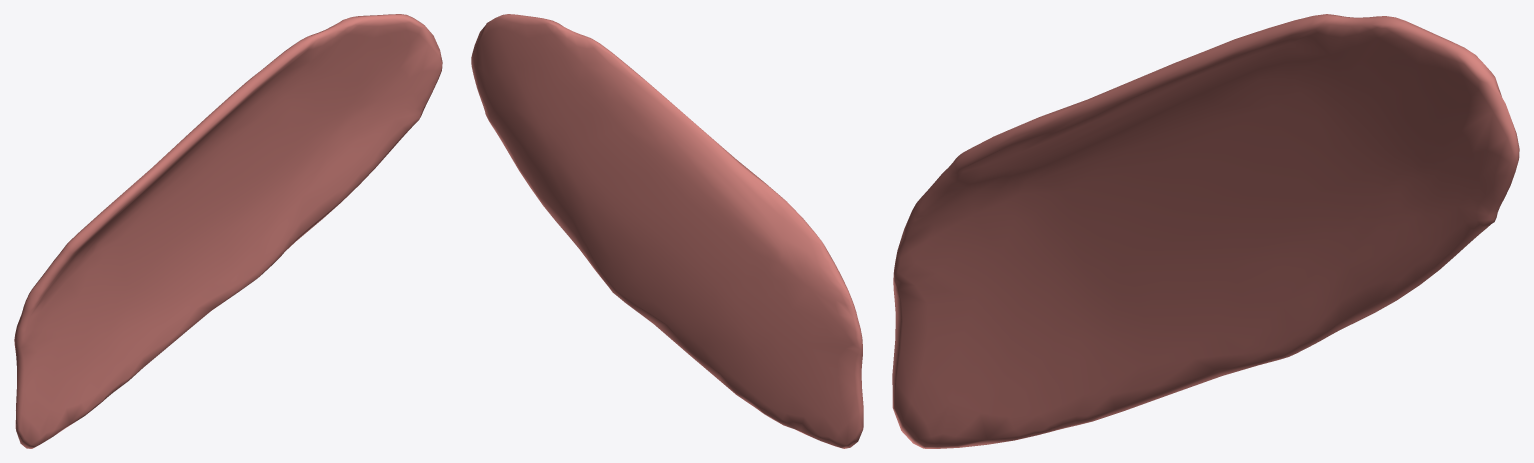
3 views of the same model, side by side, from view 1: azimuth 30°, elevation 25°; view 2: azimuth 150°, elevation 25°; view 3: azimuth 330°, elevation 25° (orthographic). The views are drawn at different scales.
Parts seen in each view (by area): view 1: ZA_8f24fcfa8a304a48; view 2: ZA_8f24fcfa8a304a48; view 3: ZA_8f24fcfa8a304a48.
Boxes of the visible parts, x1,y1,x2,y2 form: ZA_8f24fcfa8a304a48: (14, 14, 442, 448); ZA_8f24fcfa8a304a48: (471, 14, 863, 448); ZA_8f24fcfa8a304a48: (892, 14, 1519, 448).
Bounding box in the file's own units: 0.0188 × 0.0156 × 0.00212.
